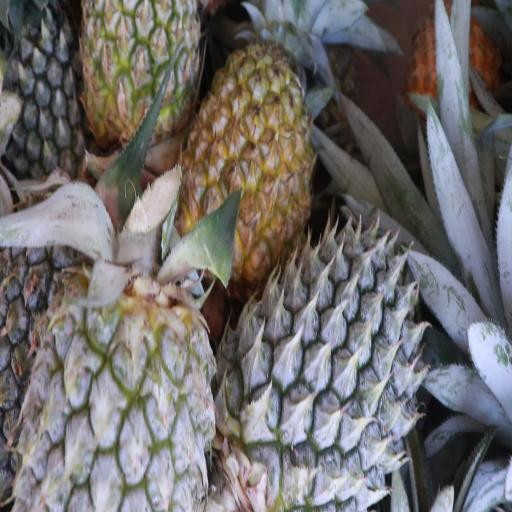------------------------------: (81, 0, 199, 151)
Pineapple - v8 v1: (187, 42, 315, 278)
